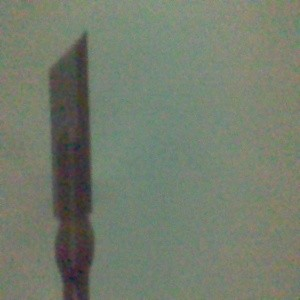cutter: (47, 30, 96, 300)
